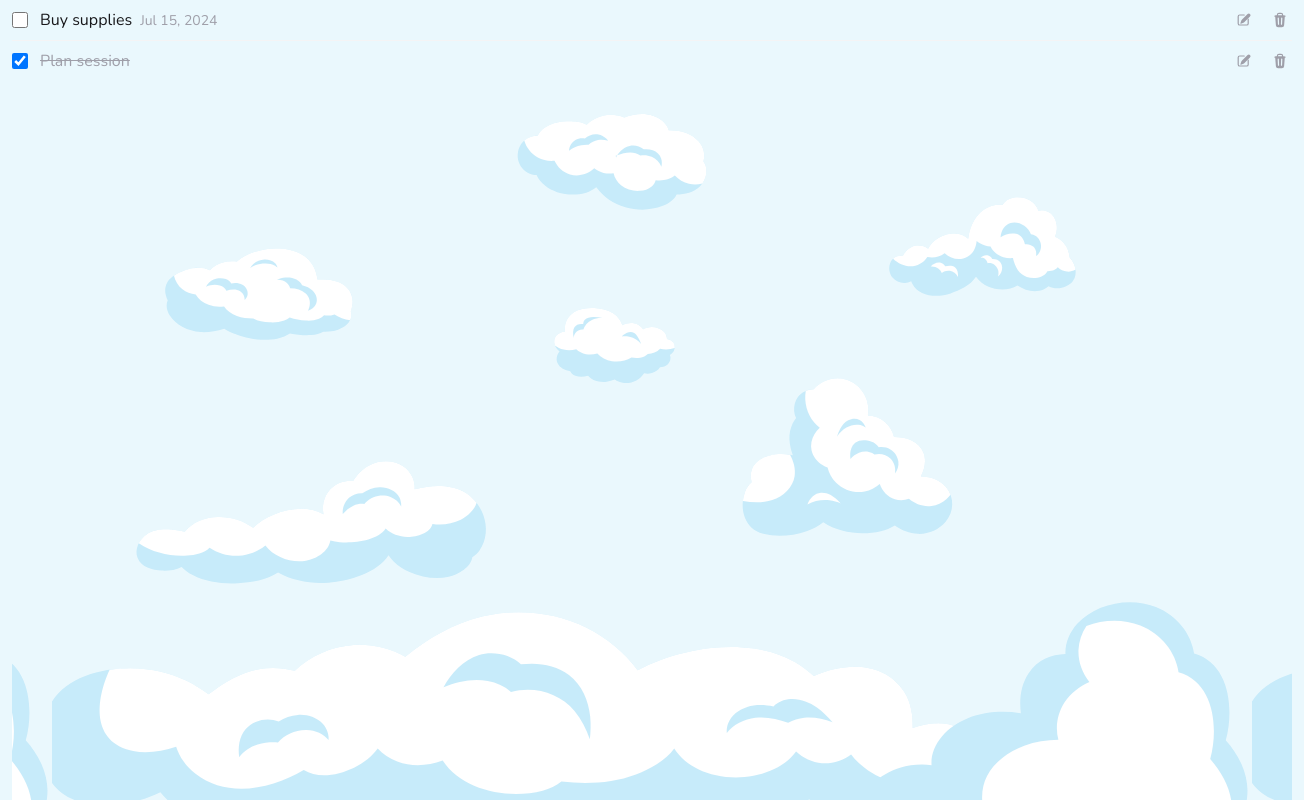
Test: ProjectTodoList › shows inline edit form when edit button clicked
What coordinates should you click on to do the following:
click the button named "Edit \"Buy supplies\""
I would click on:
 (1244, 20)
Its box is x1=1232 y1=8 x2=1256 y2=32.
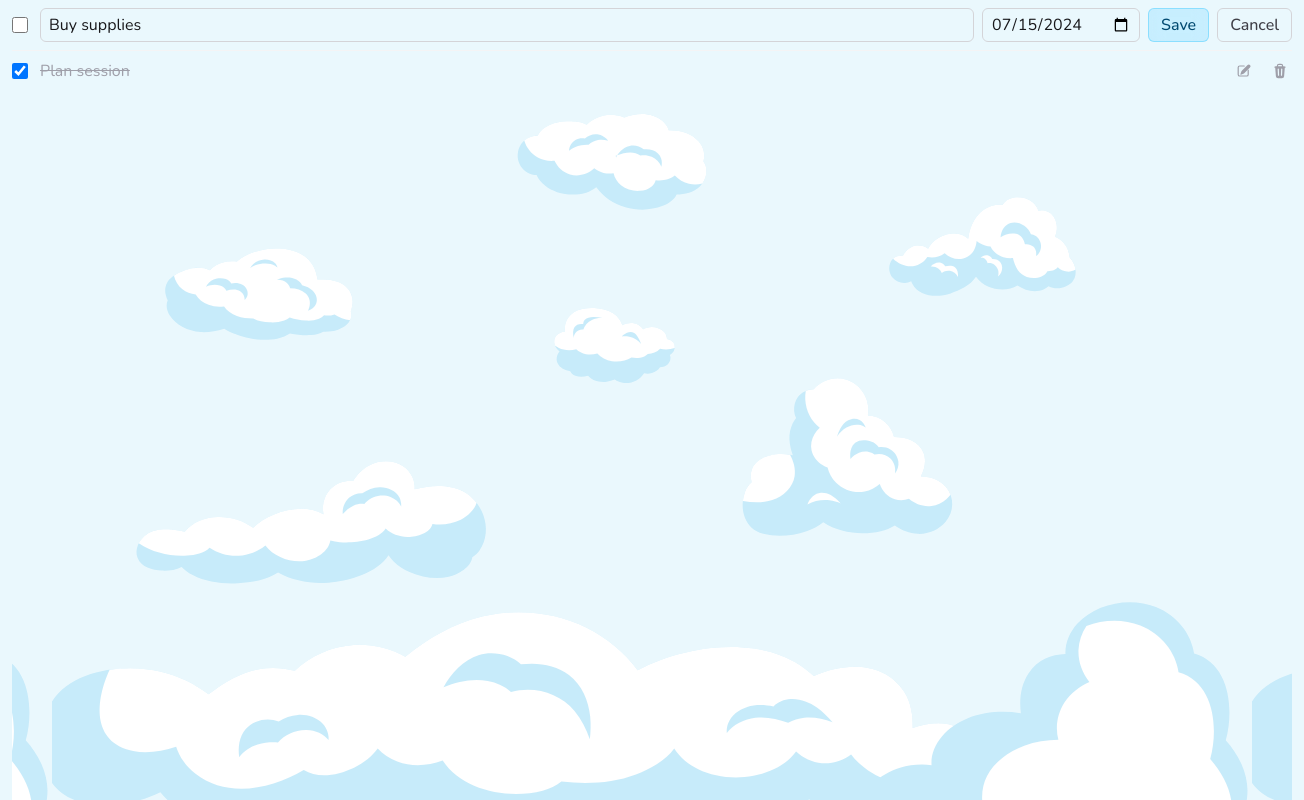
Expected: the field named "Edit title for \"Buy supplies\"" is shown, x1=40 y1=8 x2=974 y2=42
Expected: the date field named "Deadline" is shown, x1=982 y1=8 x2=1140 y2=42
Expected: the button "Save" is shown, x1=1148 y1=8 x2=1209 y2=42
